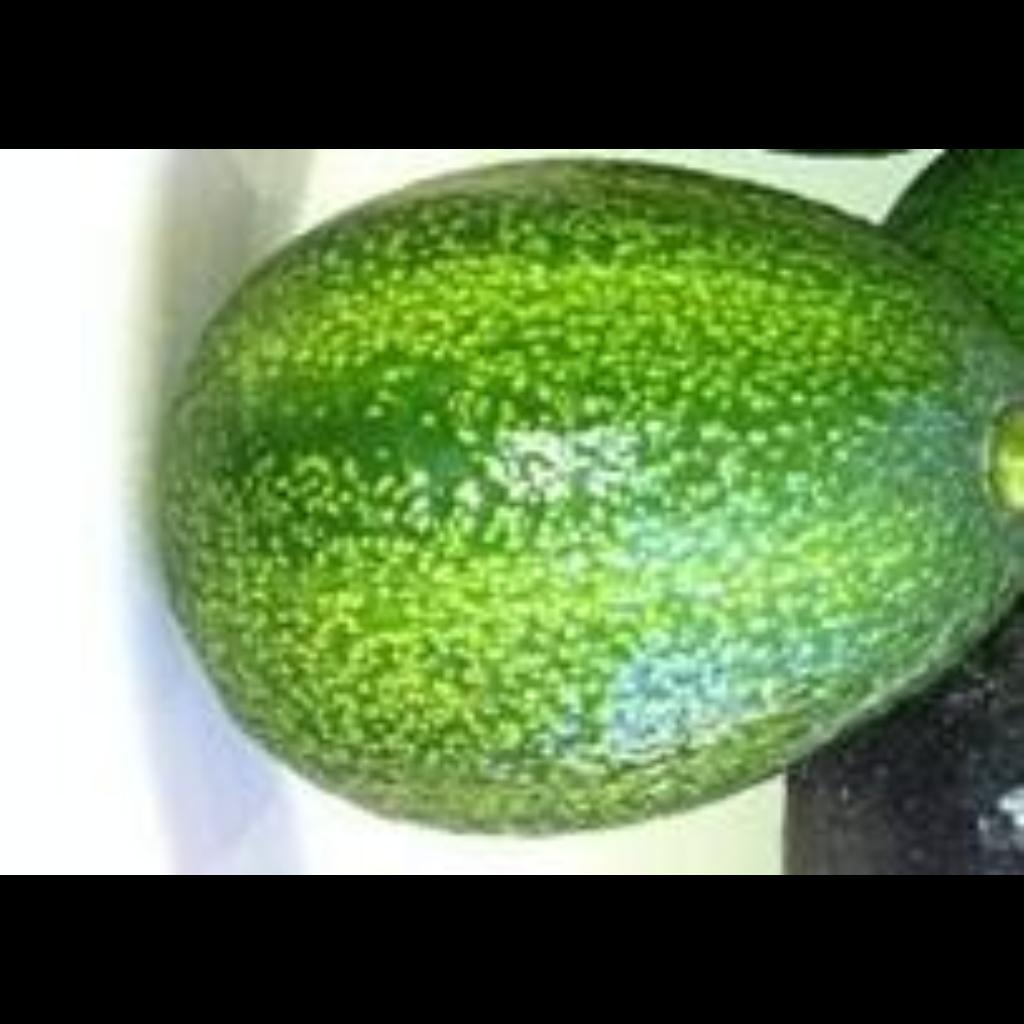fruto_sano: (166, 177, 1024, 823)
